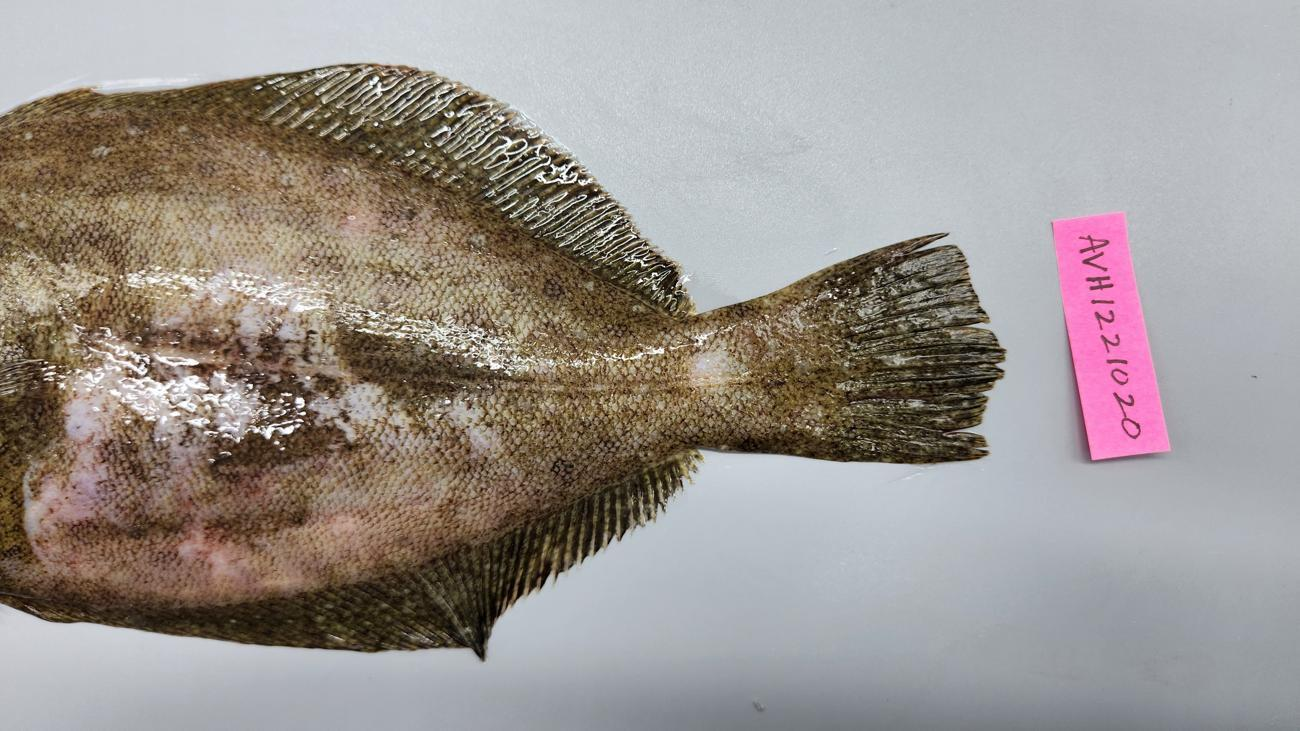VIDYH: (21, 113, 497, 247)
VIDYU: (11, 260, 541, 606), (682, 340, 746, 398)
